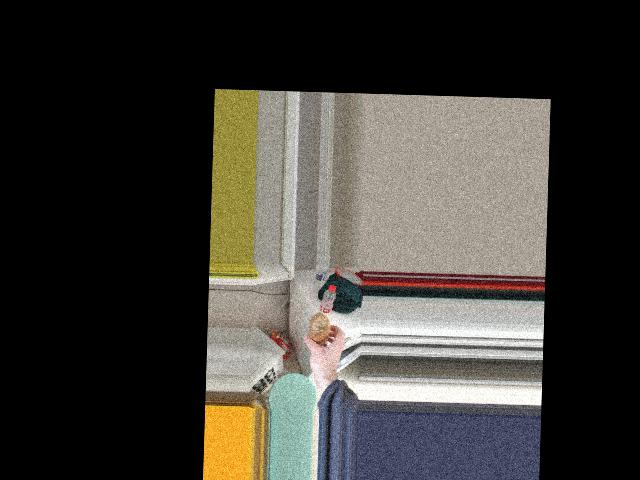sweet_potato: (305, 313, 336, 350)
